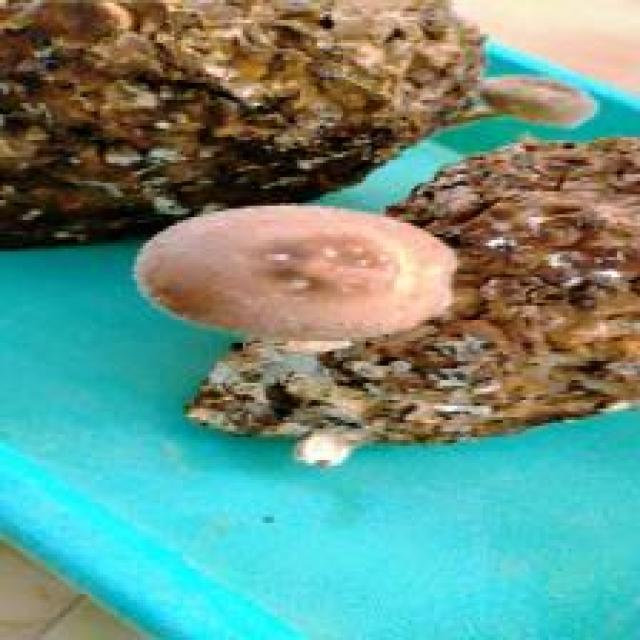chanterelle: (132, 131, 637, 466)
death-cap: (132, 200, 457, 346)
